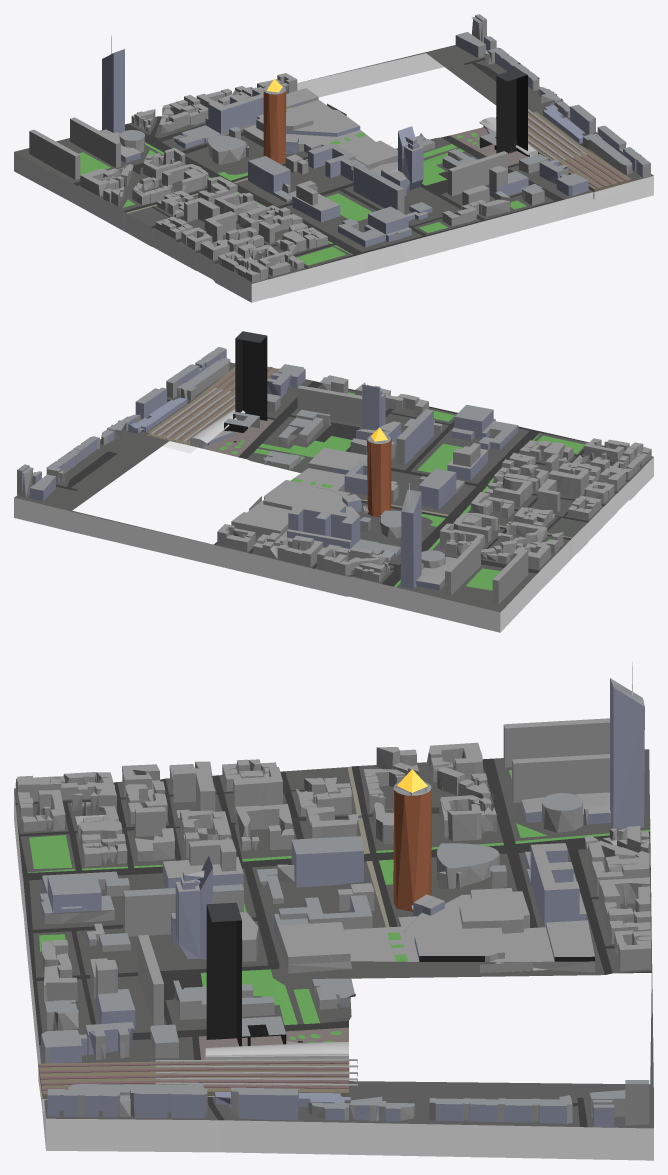
The model's file is global.glb.
3 views of the same model, one above another, from view 1: azimuth 30°, elevation 25°; view 2: azimuth 150°, elevation 25°; view 3: azimuth 270°, elevation 25° (orthographic). The views are drawn at different scales.
Parts seen in each view (by area): view 1: global; view 2: global; view 3: global.
Part boxes in pixels (x1,y1,x2,y2): global: (14,14,653,302); global: (14,331,653,632); global: (14,661,653,1160).
Bounding box in the file's own units: 1025 × 252 × 738.
Materials: 19 (1 with a texture image).
